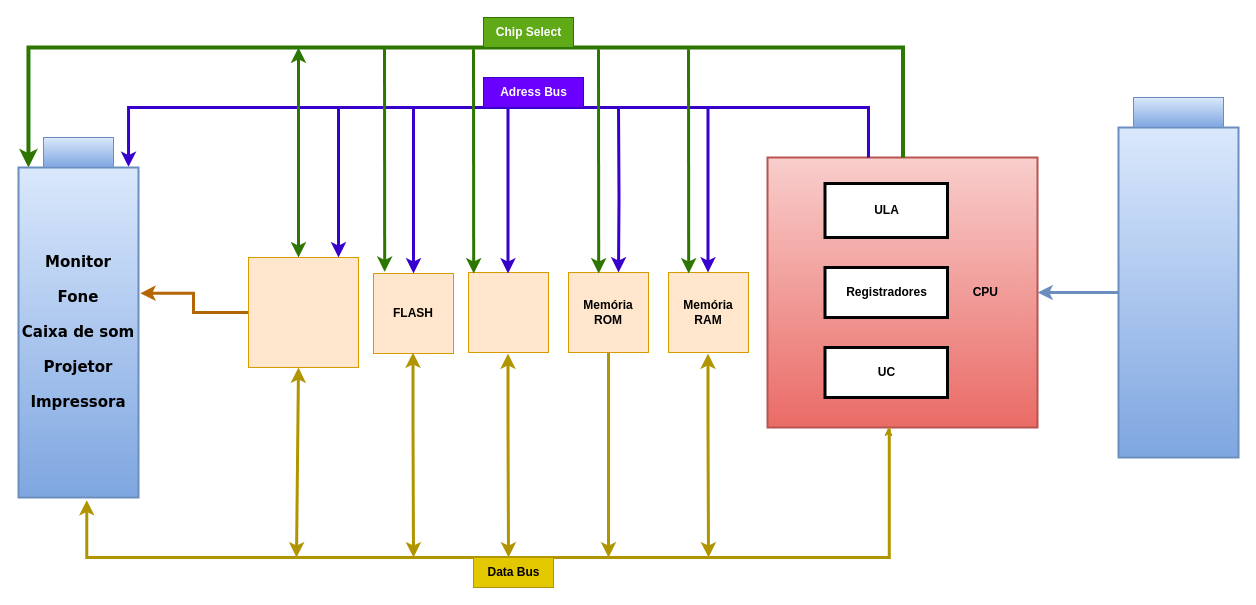
This 1256x605 diagram has some shape labels left out. Here are the shapes that lost their labels. From the top down, the centre of each, then its label:
At (x=1178, y=112): "Entradas".
At (x=78, y=152): "Saídas".
At (x=303, y=312): "DMA".
At (x=508, y=312): "EPROM".
At (x=1178, y=292): "Mouse Teclado Microfone Modem Joystick".
